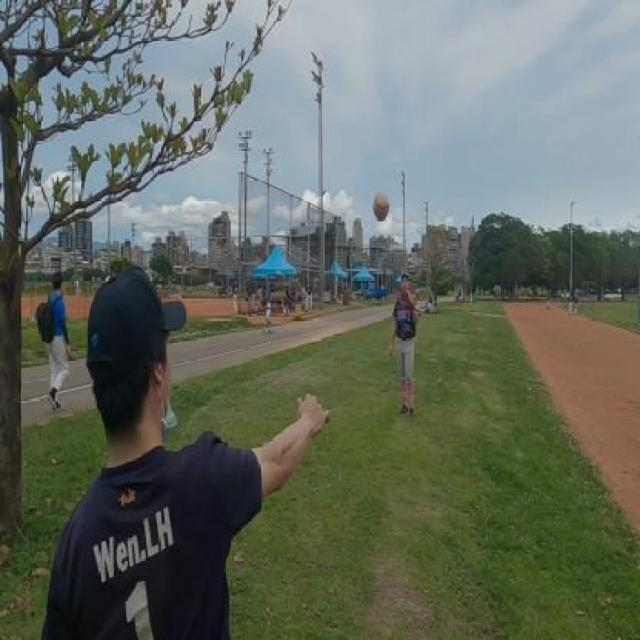baseball: (373, 190, 390, 222)
